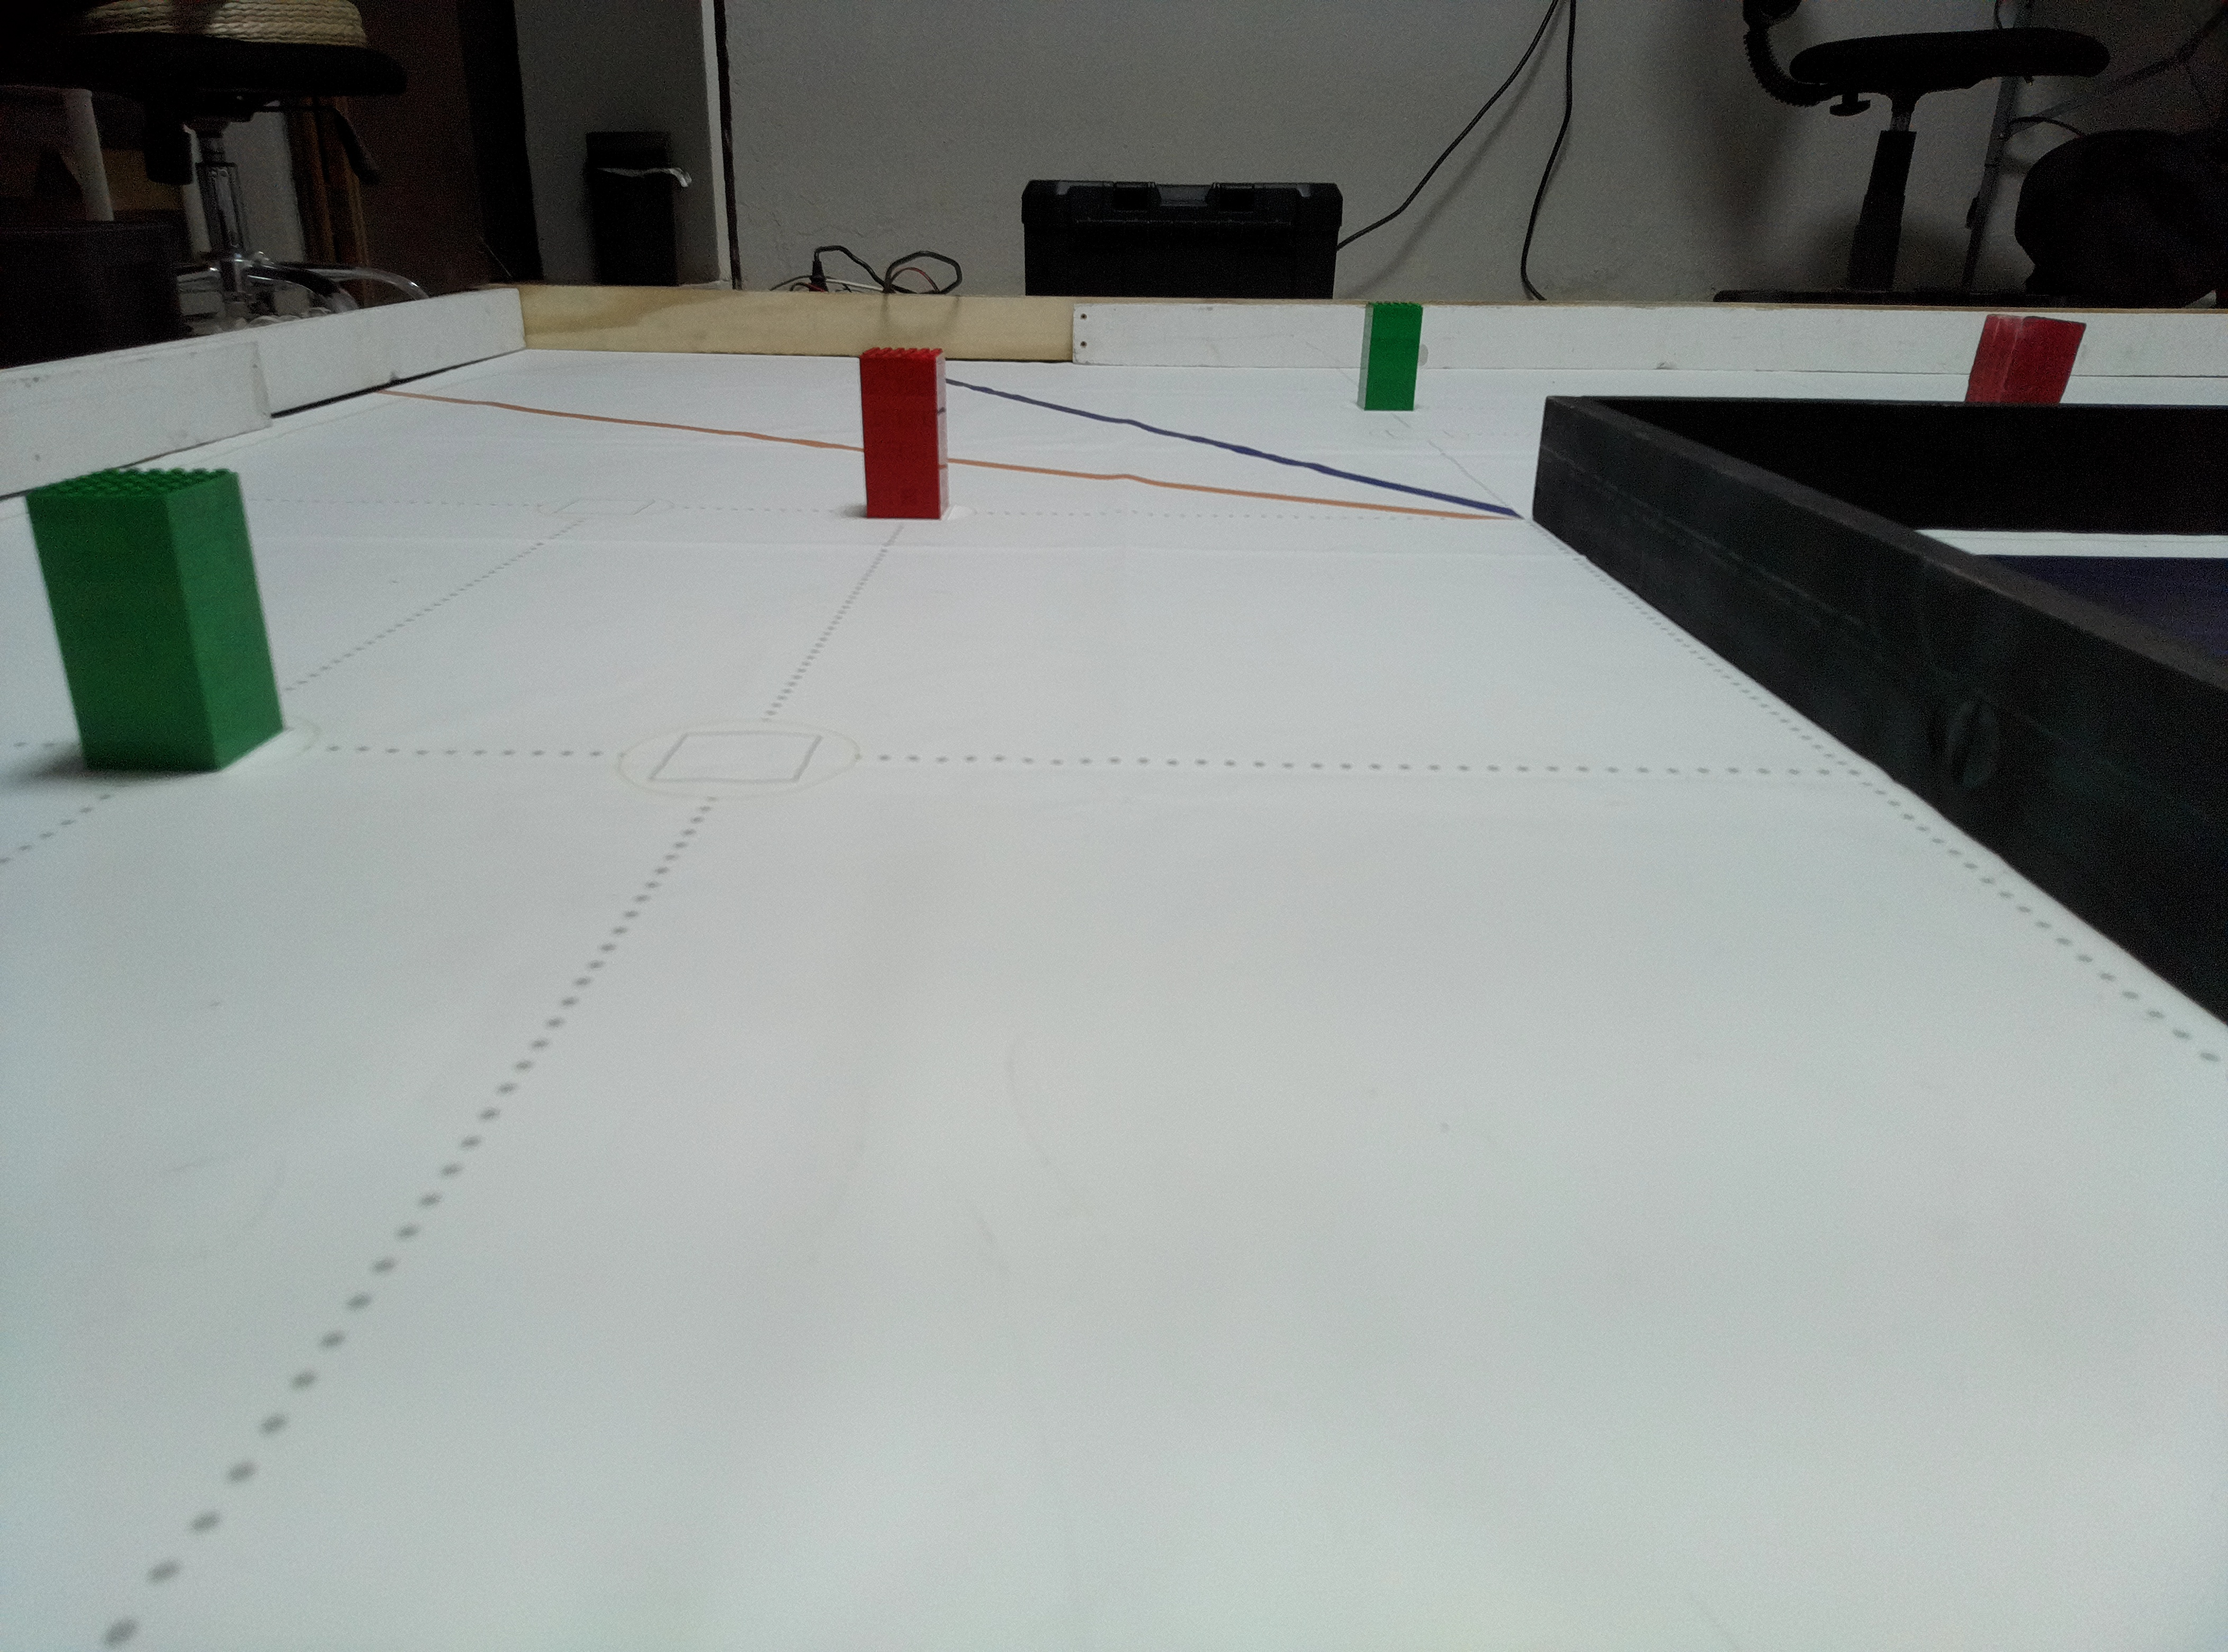greenbox: (21, 467, 290, 776), (1355, 300, 1425, 413)
redbox: (857, 345, 951, 521), (1963, 314, 2089, 403)
